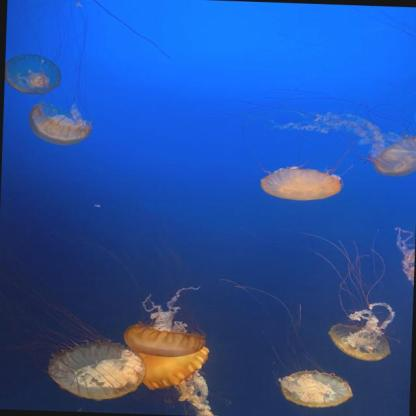jellyfish: (41, 335, 144, 401), (323, 315, 397, 367), (274, 369, 354, 412), (135, 343, 209, 389), (259, 166, 342, 202), (358, 130, 416, 180), (27, 102, 90, 146), (4, 52, 67, 96), (128, 322, 204, 356)
